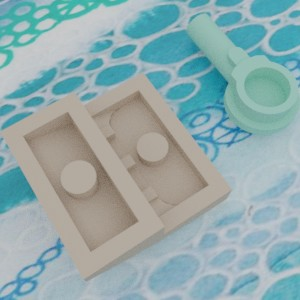lego: (0, 72, 232, 281), (186, 13, 300, 134)
